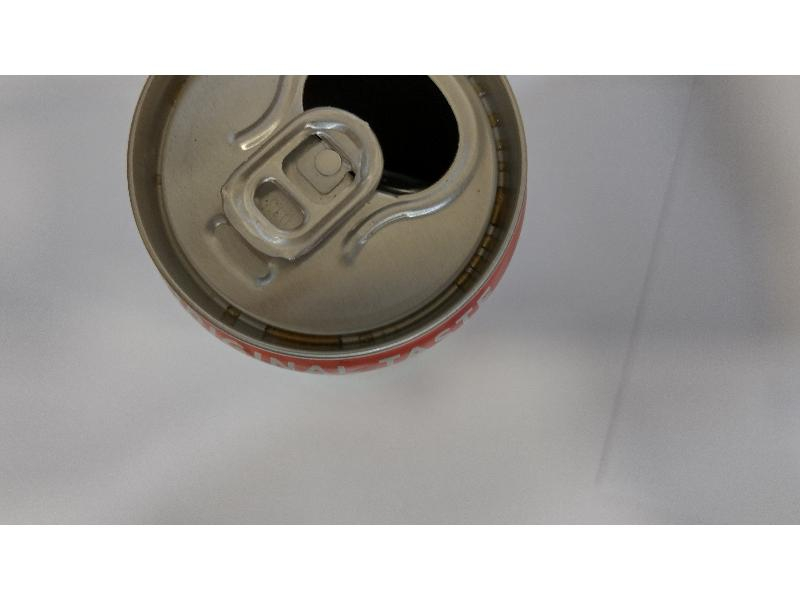can: (127, 74, 535, 384)
